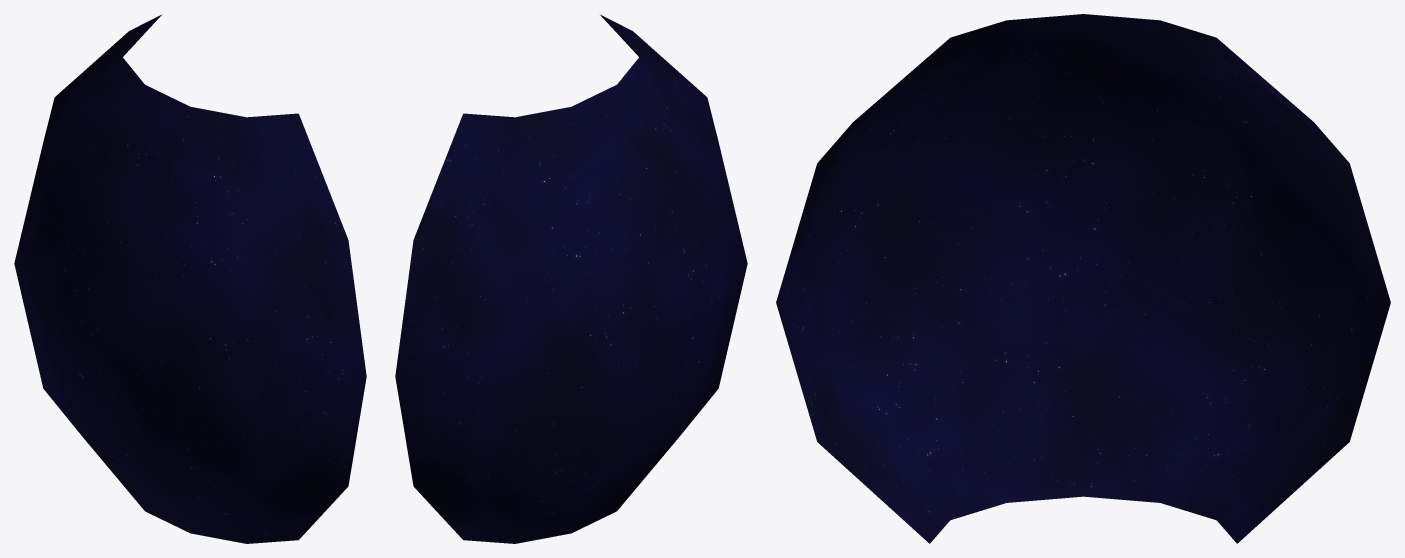
Rendered from skybox.fbx.
The picture shows the model from 3 angles, left to right: view 1: azimuth 30°, elevation 25°; view 2: azimuth 150°, elevation 25°; view 3: azimuth 270°, elevation 25°; orthographic projection. The views are drawn at different scales.
Visible parts, largest first — view 1: Sphere; view 2: Sphere; view 3: Sphere.
Part boxes in pixels (left/top/right/bottom): Sphere: left=14, top=14, right=366, bottom=543; Sphere: left=395, top=14, right=747, bottom=543; Sphere: left=776, top=14, right=1390, bottom=543.
Bounding box in the file's own units: 0.7286 × 1.73 × 2.
